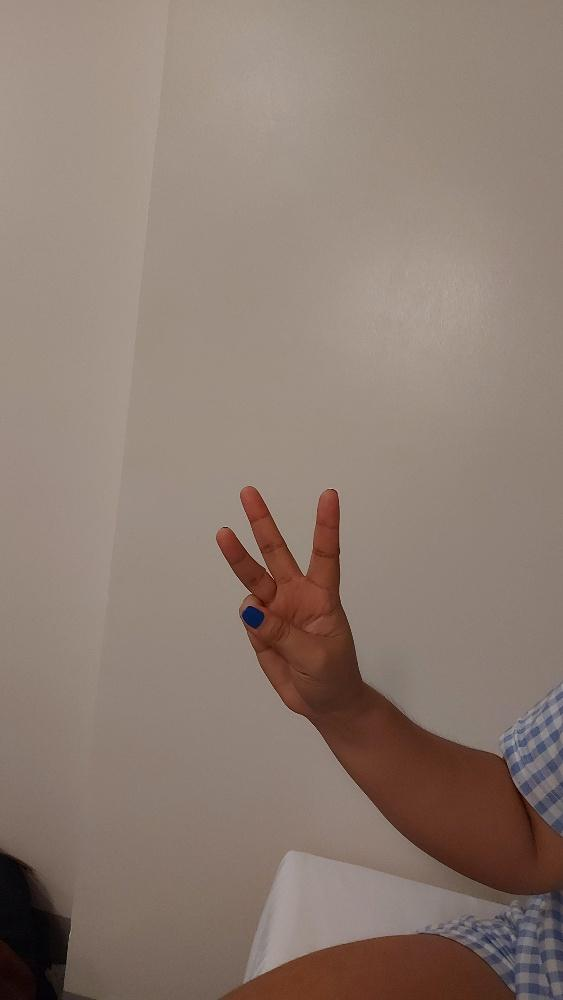w: (213, 481, 361, 717)
